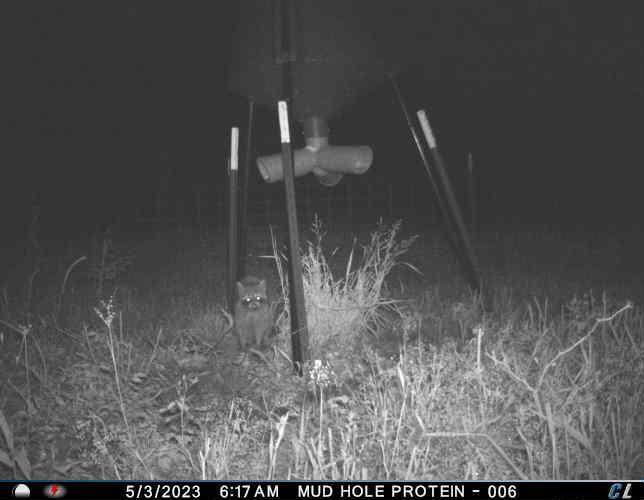Raccoon: (230, 270, 279, 351)
